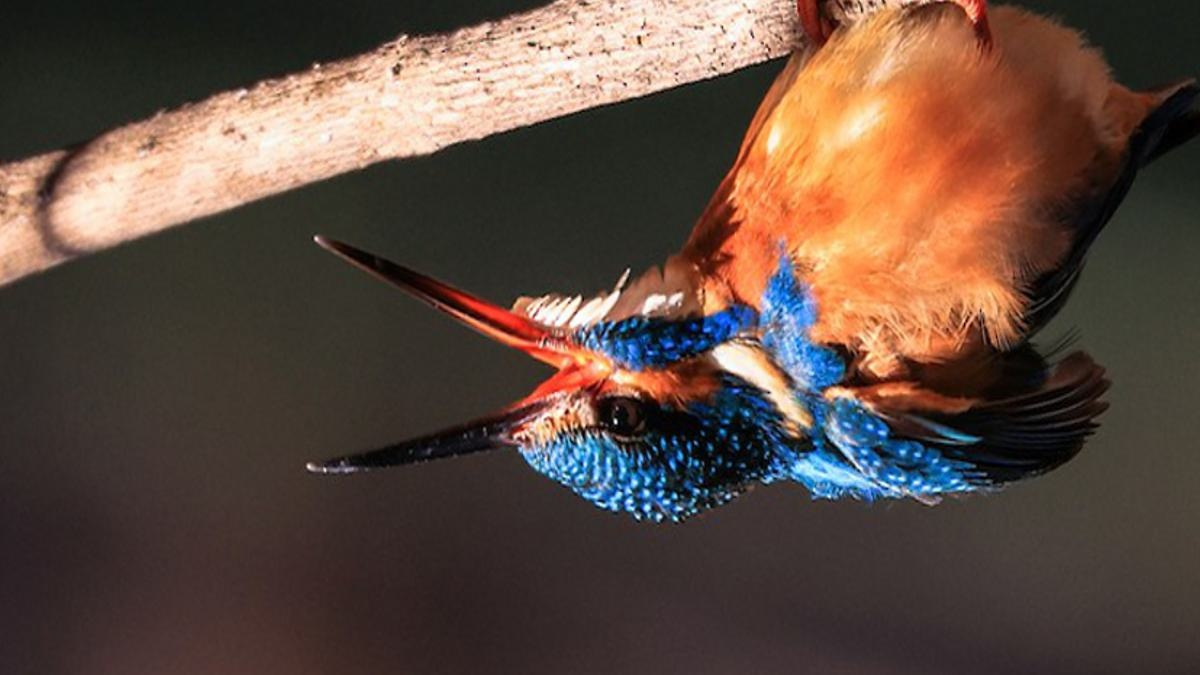kingfisher: (292, 1, 1181, 538)
